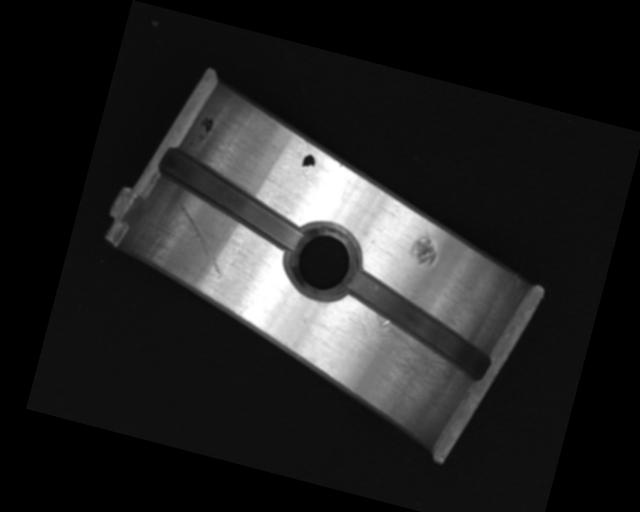blot: (195, 114, 216, 143), (298, 151, 317, 176)
bruise: (405, 226, 442, 268)
gap: (333, 267, 503, 383), (145, 145, 315, 253)
hole: (281, 216, 366, 305)
nick: (164, 203, 237, 280)
scratch: (331, 301, 475, 417)
